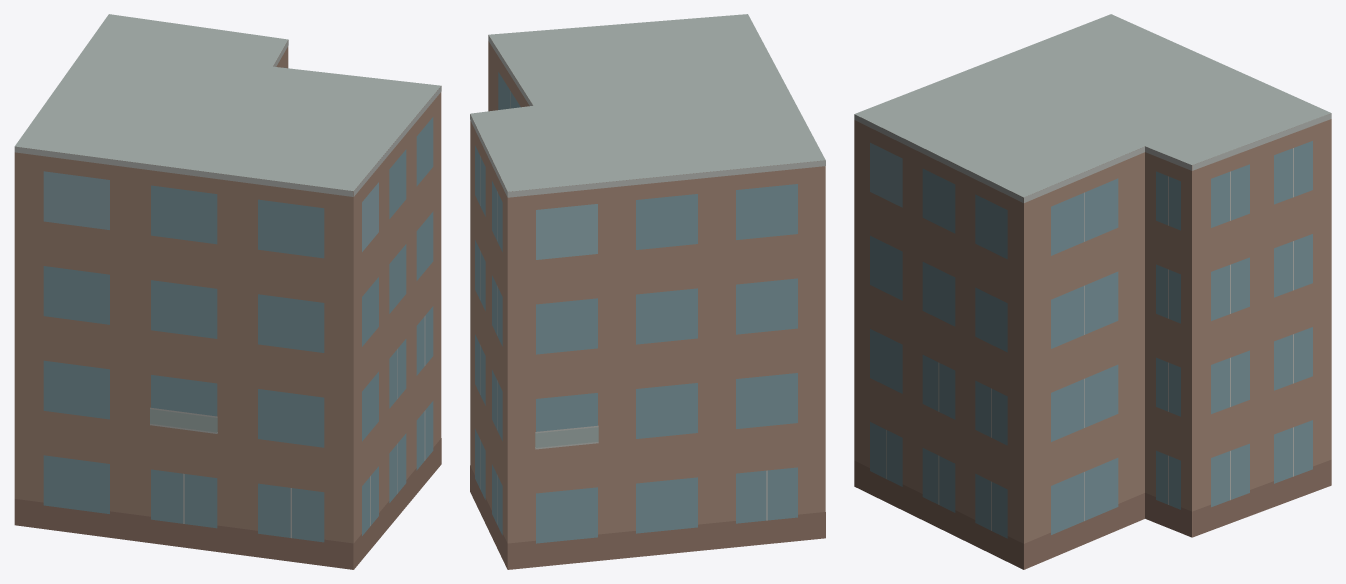
Rendered from survey-upis-32920807.glb.
The picture shows the model from 3 angles, left to right: view 1: azimuth 30°, elevation 25°; view 2: azimuth 150°, elevation 25°; view 3: azimuth 270°, elevation 25°; orthographic projection.
Visible parts, largest first — view 1: survey-upis-32920807.tmp; view 2: survey-upis-32920807.tmp; view 3: survey-upis-32920807.tmp.
Boxes of the visible parts, bbox=[...] form: survey-upis-32920807.tmp: bbox=[14, 14, 441, 569]; survey-upis-32920807.tmp: bbox=[470, 14, 825, 569]; survey-upis-32920807.tmp: bbox=[854, 14, 1331, 569].
Size of the model in its own units: 16.68 by 15.77 by 18.33.
